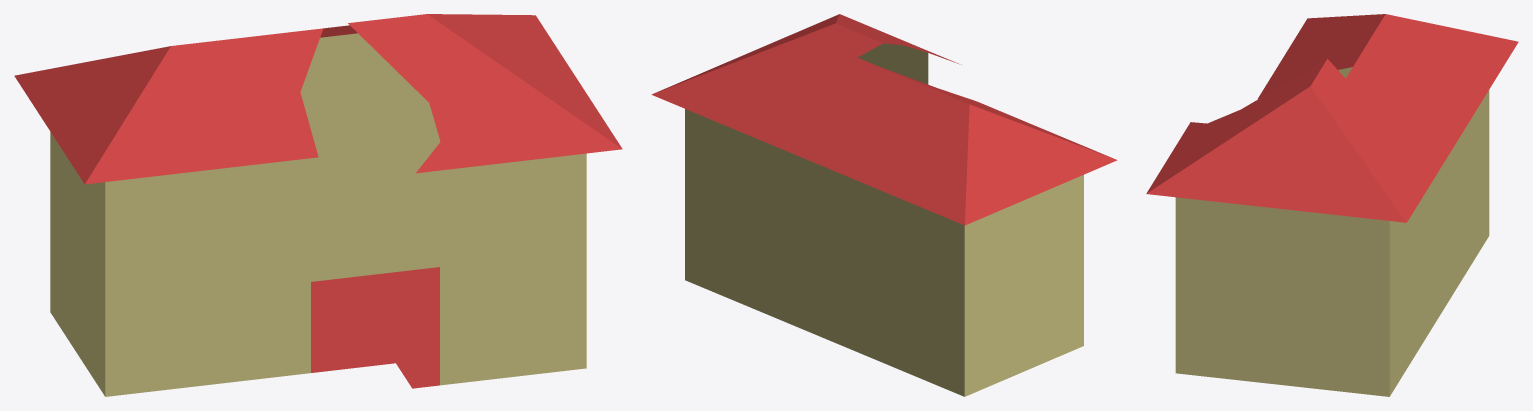
3 views of the same model, side by side, from view 1: azimuth 30°, elevation 25°; view 2: azimuth 150°, elevation 25°; view 3: azimuth 270°, elevation 25° (orthographic). The views are drawn at different scales.
Size of the model in its own units: 20.09 by 15.48 by 11.74.
